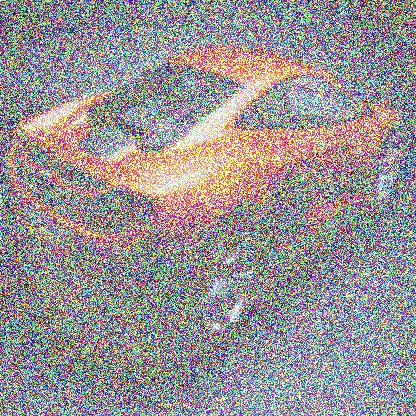Vehicle: (7, 44, 407, 348)
